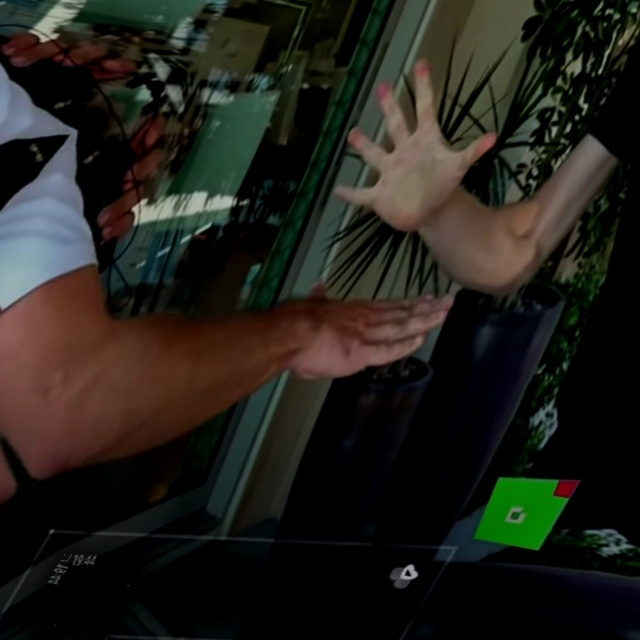Paper: (254, 0, 584, 297), (236, 216, 497, 450)
